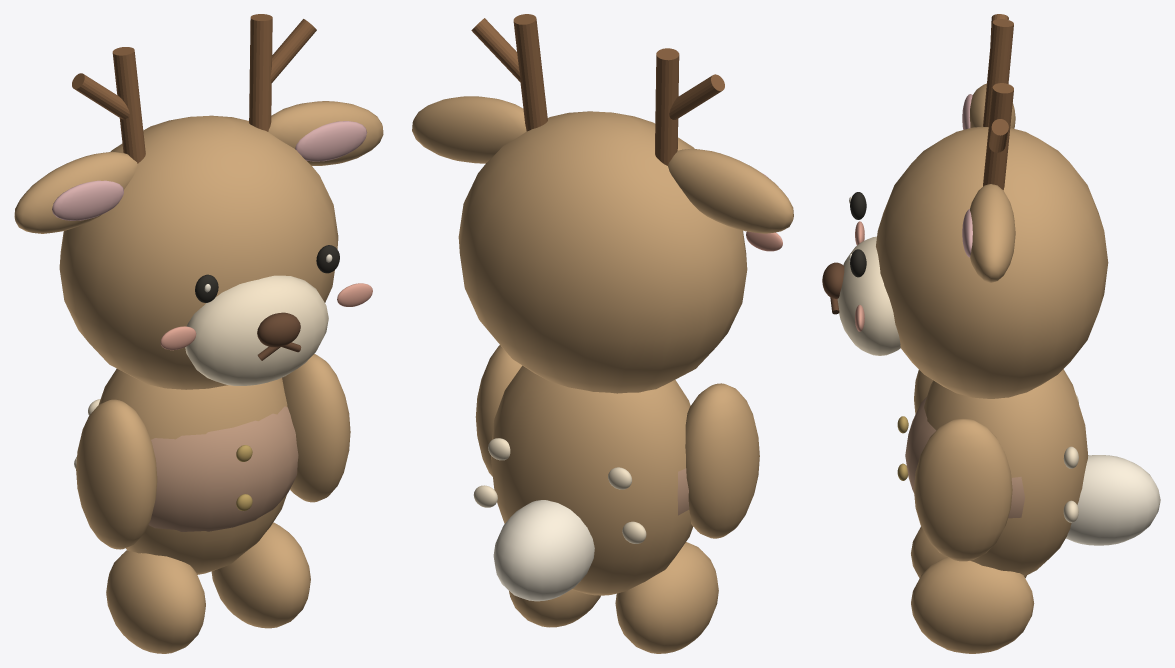
The model's file is deer.glb.
The picture shows the model from 3 angles, left to right: view 1: azimuth 30°, elevation 25°; view 2: azimuth 150°, elevation 25°; view 3: azimuth 270°, elevation 25°; orthographic projection. The views are drawn at different scales.
Visible parts, largest first — view 1: Head.005, Soft waistcoat.006, Body.006, Muzzle.005, arm_L.006, foot_L.006, arm_R.006, foot_R.006, Ear.010, Ear.011, Antler.001, Antler (+7 smaller); view 2: Head.005, Body.006, arm_L.006, Tail.005, foot_L.006, Ear.010, Ear.011, Antler.001, arm_R.006, Antler, foot_R.006, Antler fork.001 (+2 smaller); view 3: Head.005, Body.006, arm_R.006, foot_R.006, Tail.005, Muzzle.005, Ear.011, Antler.001, Soft waistcoat.006, Antler, foot_L.006, Ear.010 (+2 smaller).
Boxes of the visible parts, x1,y1,x2,y2 form: Head.005: (59, 115, 338, 389); Soft waistcoat.006: (148, 406, 298, 531); Body.006: (98, 369, 287, 574); Muzzle.005: (185, 275, 328, 385); arm_L.006: (76, 399, 157, 549); foot_L.006: (106, 550, 205, 653); arm_R.006: (282, 354, 350, 502); foot_R.006: (211, 522, 310, 628); Ear.010: (14, 151, 137, 233); Ear.011: (268, 101, 383, 165); Antler.001: (249, 14, 272, 131); Antler: (112, 47, 145, 163); Head.005: (458, 111, 747, 393); Body.006: (491, 365, 693, 595); arm_L.006: (685, 383, 759, 538); Tail.005: (493, 500, 594, 601); foot_L.006: (615, 542, 718, 653); Ear.010: (668, 148, 793, 233); Ear.011: (412, 96, 526, 163); Antler.001: (513, 14, 547, 131); arm_R.006: (475, 345, 522, 476); Antler: (655, 48, 679, 165); foot_R.006: (509, 589, 600, 627); Antler fork.001: (471, 18, 520, 81); Head.005: (876, 126, 1108, 398); Body.006: (924, 369, 1088, 575); arm_R.006: (914, 418, 1012, 561); foot_R.006: (911, 557, 1034, 653); Tail.005: (1066, 455, 1160, 545); Muzzle.005: (837, 236, 900, 355); Ear.011: (970, 184, 1015, 282); Antler.001: (983, 83, 1013, 190); Soft waistcoat.006: (905, 397, 1024, 518); Antler: (983, 19, 1013, 126); foot_L.006: (911, 526, 1026, 578); Ear.010: (970, 83, 1015, 128).
Bounding box in the file's own units: 1.33 × 2.04 × 1.1.
